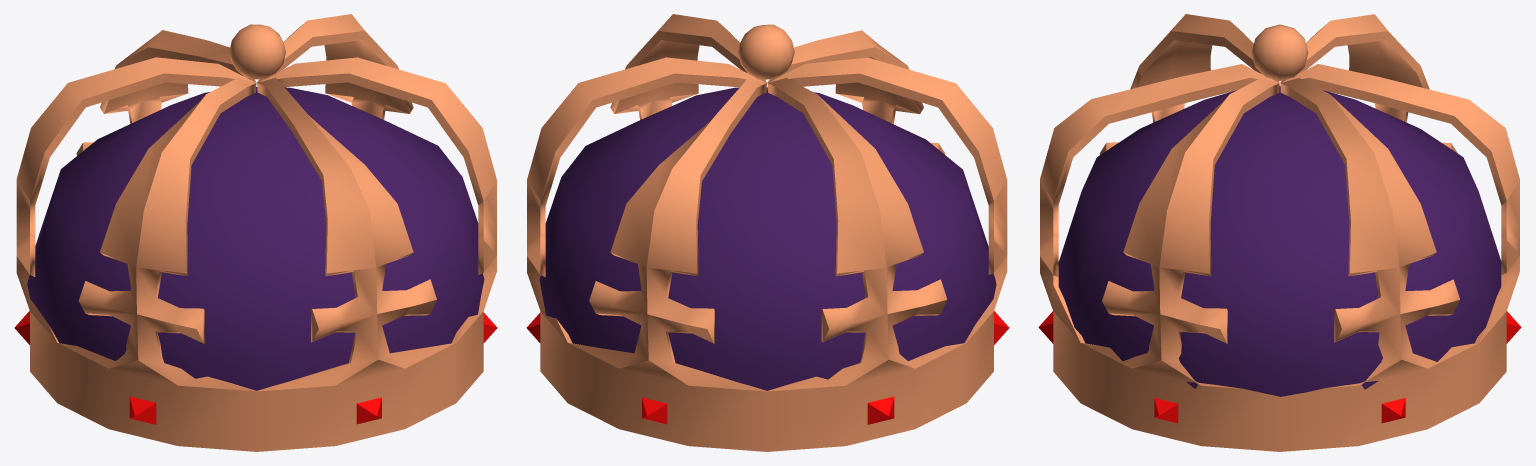
File: Char_Black_Crown.FBX
3 renders of one model, left to right at view 1: azimuth 30°, elevation 25°; view 2: azimuth 150°, elevation 25°; view 3: azimuth 270°, elevation 25°, orthographic.
Visible parts, largest first — view 1: Cylinder004; view 2: Cylinder004; view 3: Cylinder004.
Part boxes in pixels (bbox=[...]): Cylinder004: bbox=[14, 14, 497, 451]; Cylinder004: bbox=[526, 14, 1009, 451]; Cylinder004: bbox=[1038, 14, 1521, 451].
Bounding box in the file's own units: 43.23 × 32.32 × 43.03.
